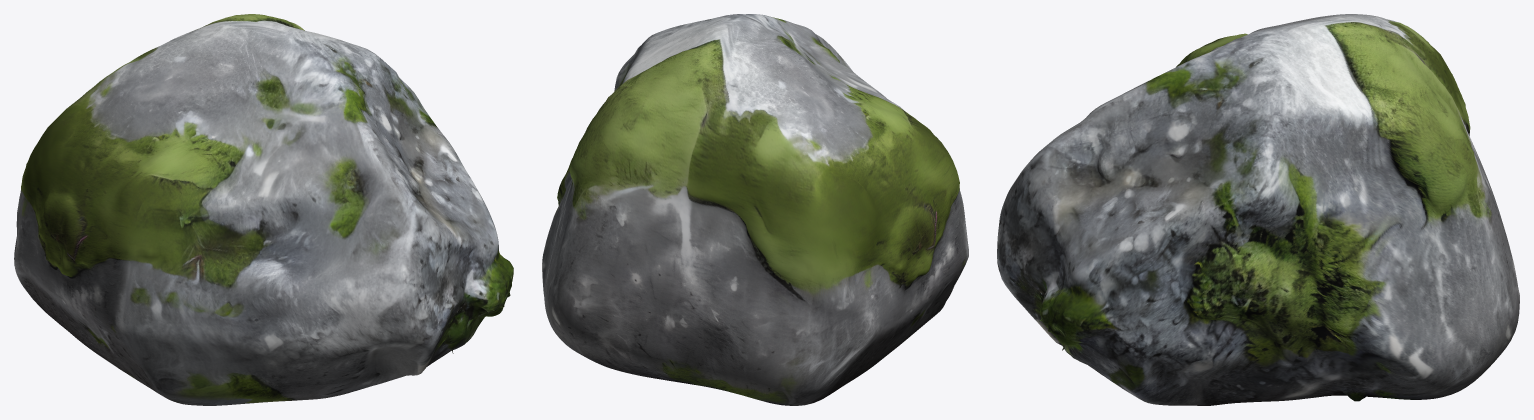
Rendered from boulder.glb.
3 views of the same model, side by side, from view 1: azimuth 30°, elevation 25°; view 2: azimuth 150°, elevation 25°; view 3: azimuth 270°, elevation 25° (orthographic). The views are drawn at different scales.
Visible parts, largest first — view 1: model; view 2: model; view 3: model.
Part boxes in pixels (x1,y1,x2,y2): model: (14, 14, 513, 405); model: (542, 14, 968, 405); model: (997, 14, 1519, 405).
Size of the model in its own units: 1.67 by 1.38 by 1.94.
Materials: 1 (1 with a texture image).
